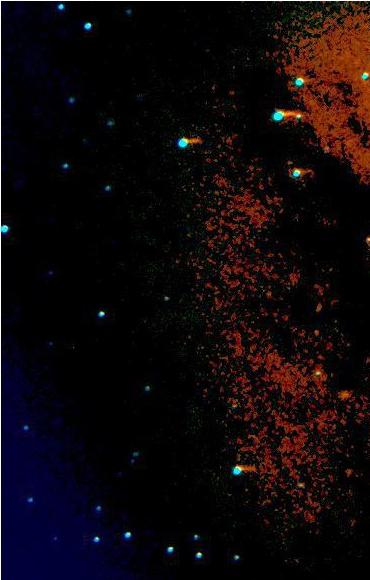star: (327, 377, 357, 407)
